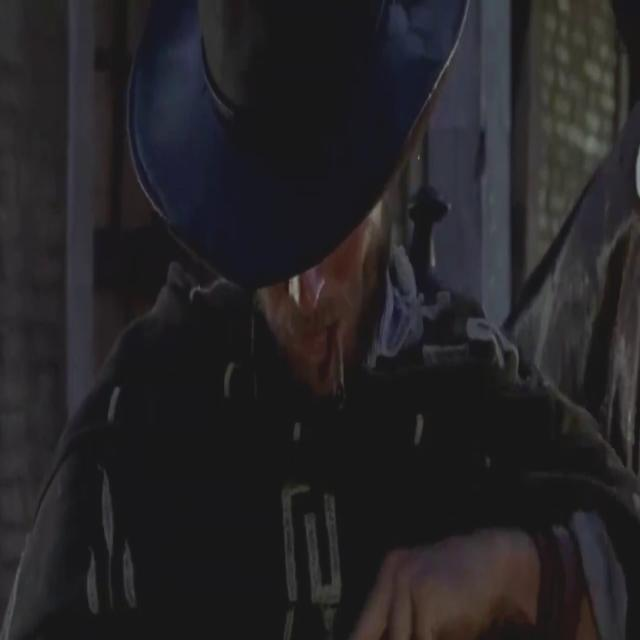Smooking: (328, 319, 350, 407)
